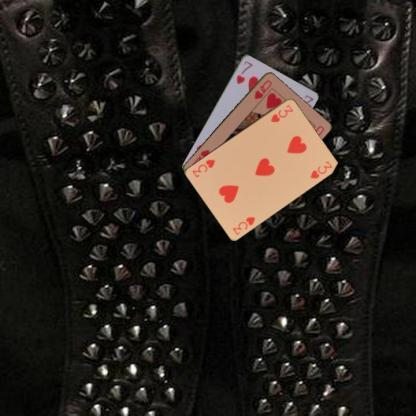3h: (268, 102, 294, 124), (230, 214, 256, 236)
7h: (233, 58, 255, 85)
Qh: (252, 77, 274, 100)
